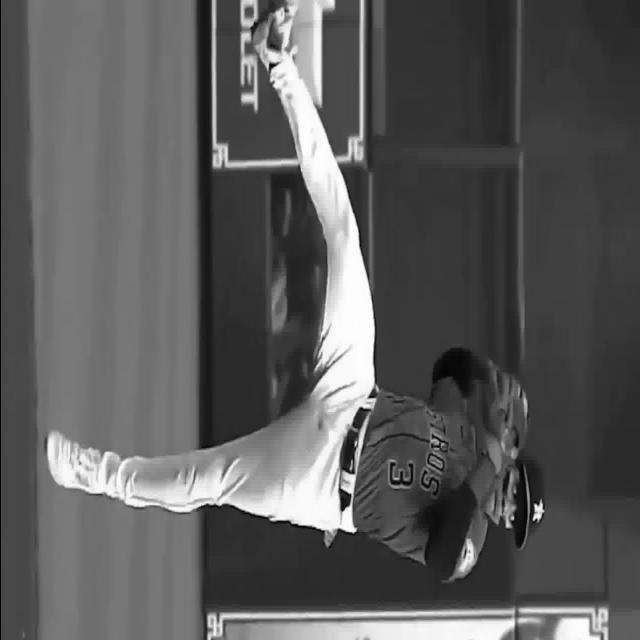baseball_glove: (482, 362, 530, 456)
shoe: (44, 429, 102, 495), (250, 5, 294, 75)
